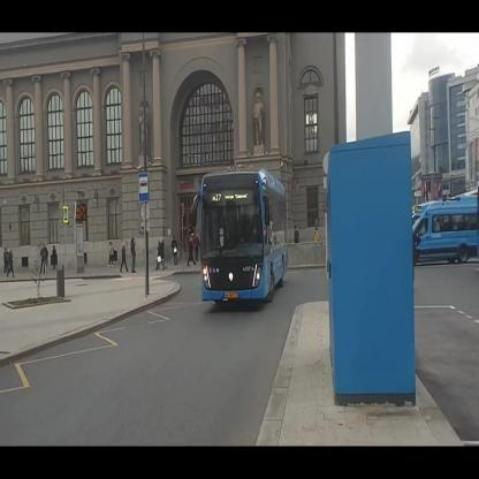bus: (191, 170, 290, 303)
